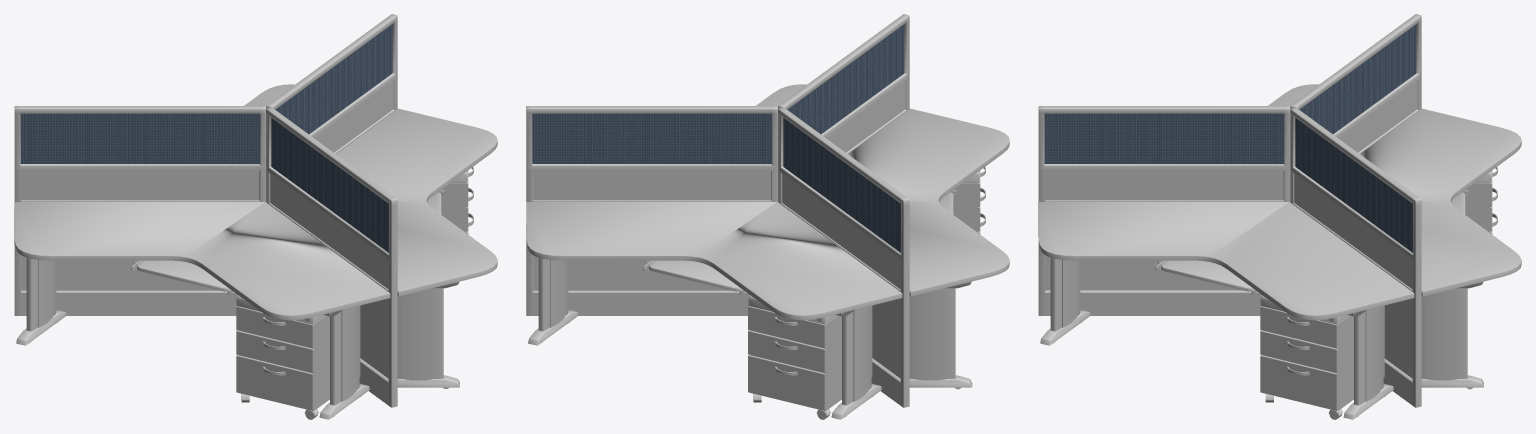
The model's file is table5.FBX.
3 renders of one model, left to right at view 1: azimuth 30°, elevation 25°; view 2: azimuth 150°, elevation 25°; view 3: azimuth 270°, elevation 25°, orthographic.
Visible parts, largest first — view 1: table5_LOD0; view 2: table5_LOD0; view 3: table5_LOD0.
Boxes of the visible parts, left/top/right/bottom form: table5_LOD0: left=14, top=14, right=497, bottom=419; table5_LOD0: left=526, top=14, right=1009, bottom=419; table5_LOD0: left=1038, top=14, right=1521, bottom=419.
Size of what is drawn, in the model's own units: 134 by 55.73 by 118.
